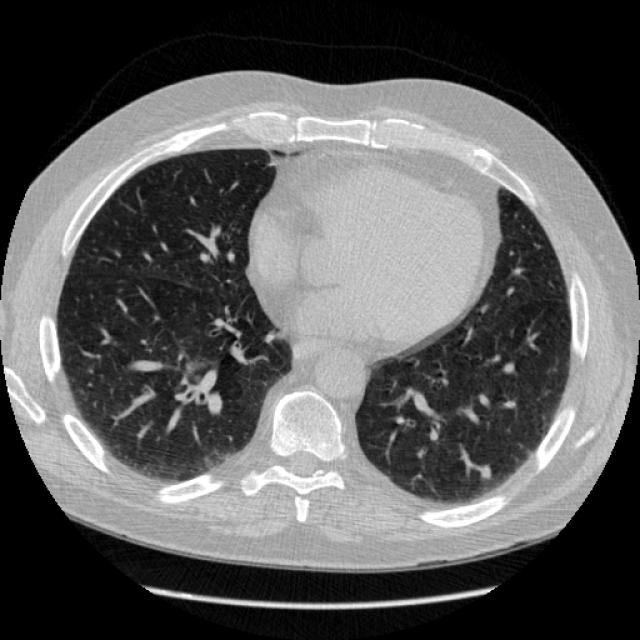nodule: (472, 458, 498, 484)
